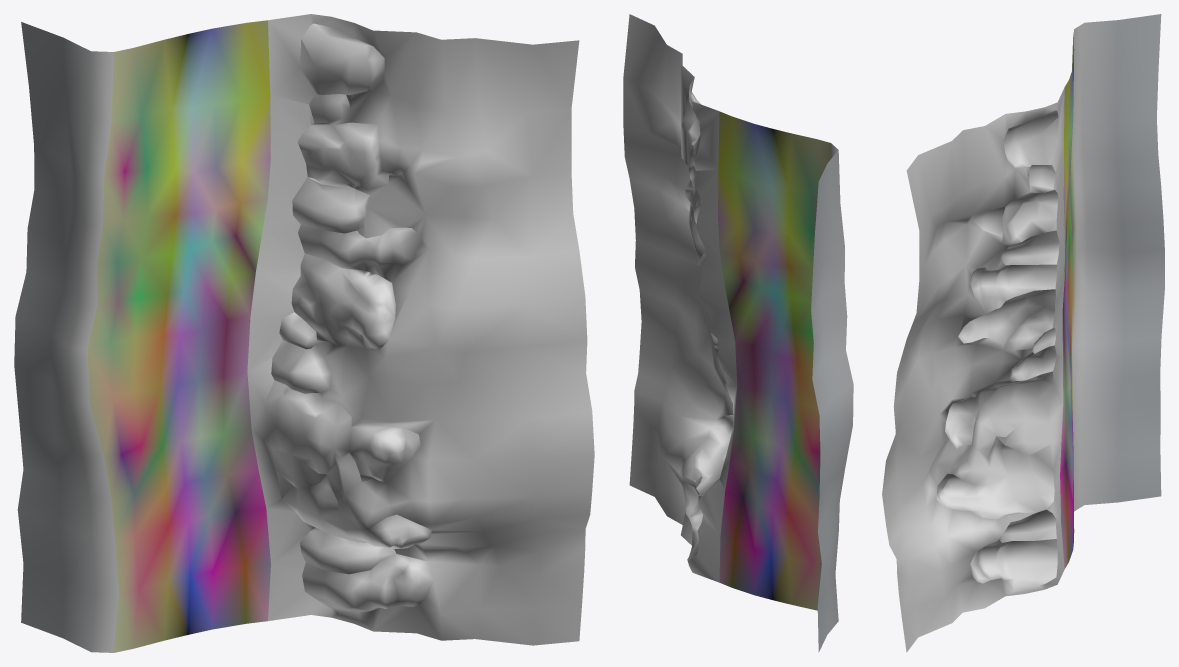
The model's file is Volcano_StraightA.glb.
The picture shows the model from 3 angles, left to right: view 1: azimuth 30°, elevation 25°; view 2: azimuth 150°, elevation 25°; view 3: azimuth 270°, elevation 25°; orthographic projection. The views are drawn at different scales.
Visible parts, largest first — view 1: MeshNode_0, MeshNode_1; view 2: MeshNode_0, MeshNode_1; view 3: MeshNode_0, MeshNode_1.
Part boxes in pixels (x1,y1,x2,y2): MeshNode_0: [14, 14, 594, 652]; MeshNode_1: [87, 20, 270, 652]; MeshNode_0: [623, 14, 853, 652]; MeshNode_1: [718, 111, 831, 610]; MeshNode_0: [882, 14, 1164, 652]; MeshNode_1: [1060, 29, 1075, 568].
Bounding box in the file's own units: 90.11 × 128 × 68.03.
